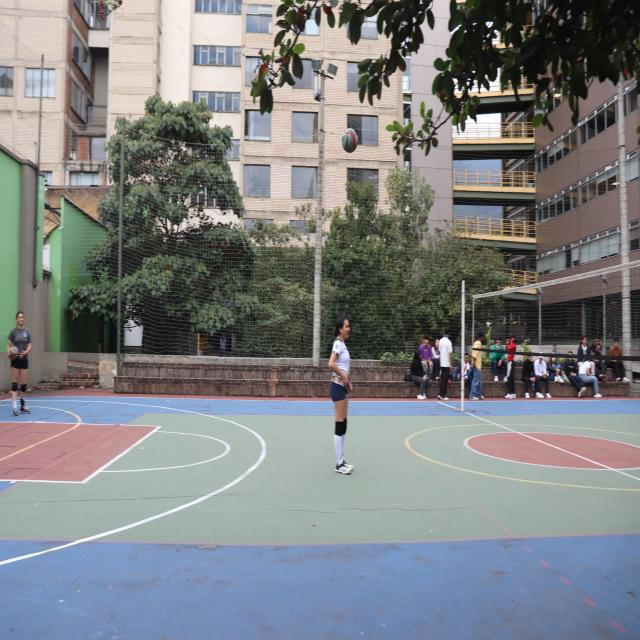volleyball: (342, 128, 358, 154), (9, 346, 19, 359)
